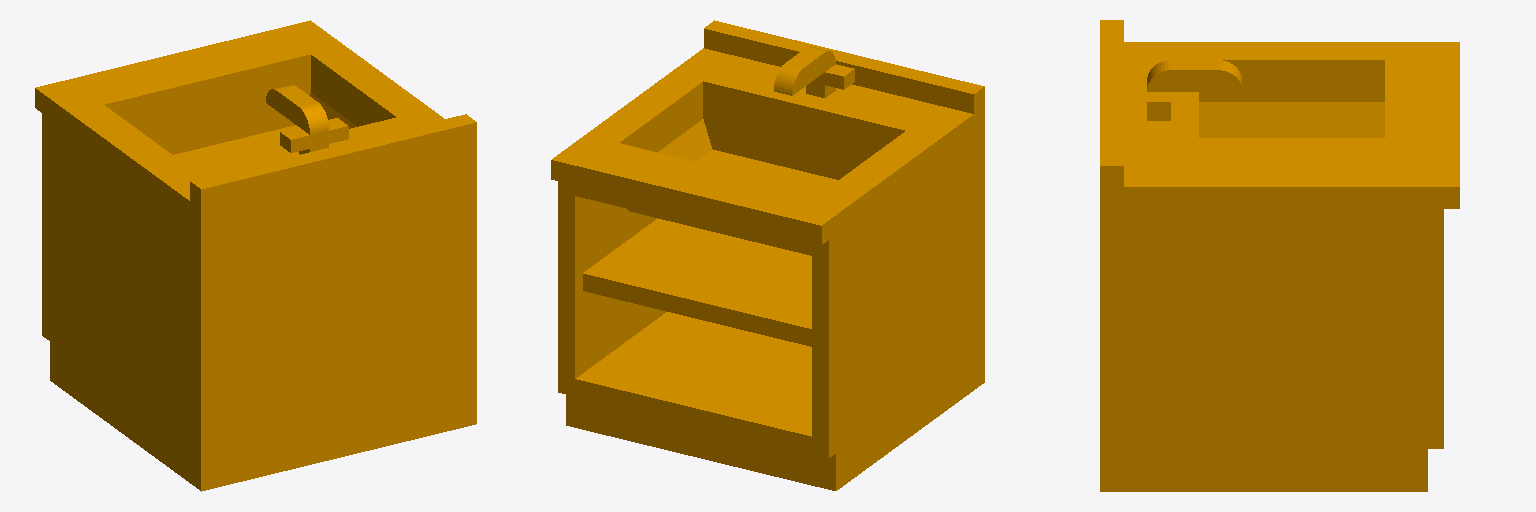
URDF robot description (kitchensink):
<?xml version="1.0"?>
<robot name="kitchensink">
  <link name="kitchensink">
    <inertial>
        <origin rpy="0 0 0" xyz="0 0 0"/>
        <mass value="30.0"/>
        <inertia ixx="2e-2" ixy="0" ixz="0" iyy="2e-2" iyz="0" izz="2e-2"/>
    </inertial>
    <visual>
      <geometry>
        <mesh filename="kitchen_sink_visual.obj"/>
      </geometry>
    </visual>
    <collision>
      <geometry>
        <mesh filename="kitchen_sink_visual.obj"/>
      </geometry>
      <surface>
           <bounce restitution_coefficient = "0.1"/>
      </surface>
    </collision>
  </link>
</robot>

--- Facts derived from the render (not from the file) ---
The picture shows the robot from 3 angles, left to right: view 1: azimuth 30°, elevation 25°; view 2: azimuth 150°, elevation 25°; view 3: azimuth 270°, elevation 25°; orthographic projection.
Model kitchensink with 1 links and 0 joints (none), rooted at kitchensink, posed every joint at zero.
Links seen in each view (by area): view 1: kitchensink; view 2: kitchensink; view 3: kitchensink.
Boxes of the visible links, <box> form: kitchensink: <box>35,20,476,491</box>; kitchensink: <box>551,20,984,490</box>; kitchensink: <box>1100,20,1459,491</box>.
Bounding box of the posed robot: 0.688 × 0.72 × 0.784 m (x, y, z).
Meshes: 1 distinct files referenced, 1 mesh visuals loaded (1 OBJ).
